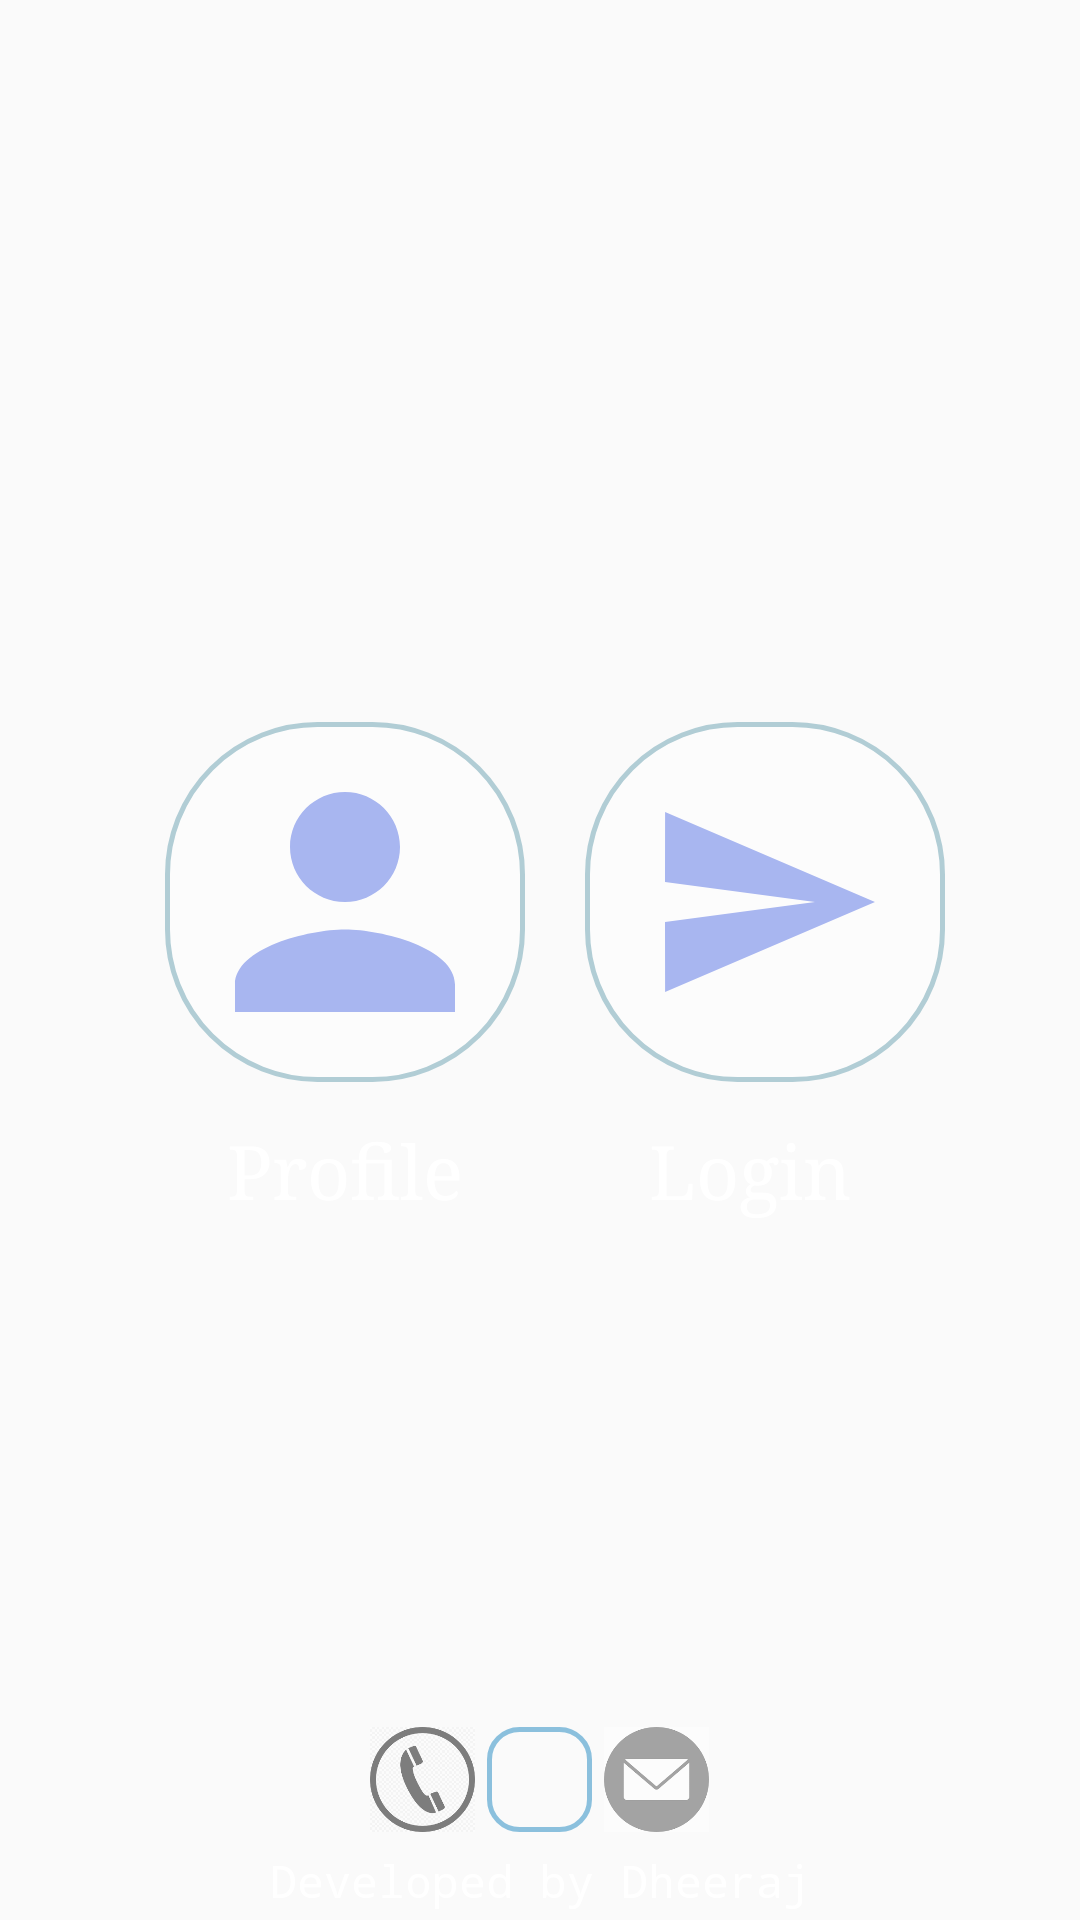

Named icons in this screenshot (1080 x 1920) and their bounding boxes, {"left": x1, "top": y1, "right": x2, "bottom": y2}:
call: {"left": 370, "top": 1727, "right": 475, "bottom": 1832}
enter: {"left": 585, "top": 722, "right": 945, "bottom": 1082}
person: {"left": 165, "top": 722, "right": 525, "bottom": 1082}
